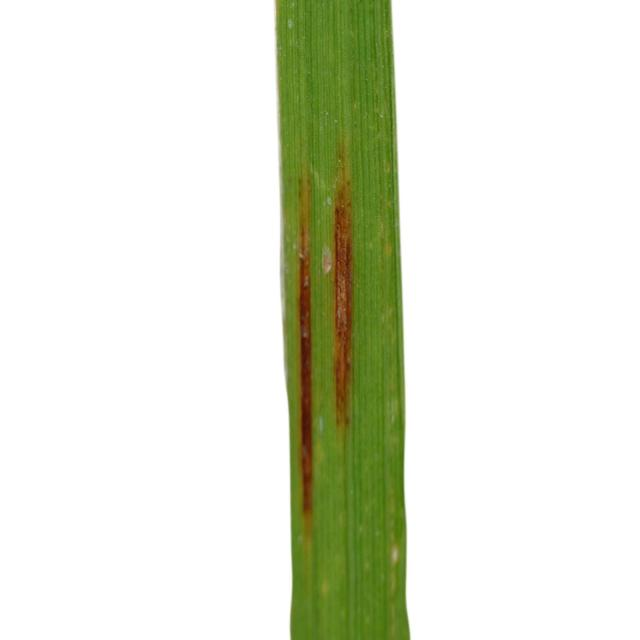Narrow brown: (252, 0, 434, 640)
